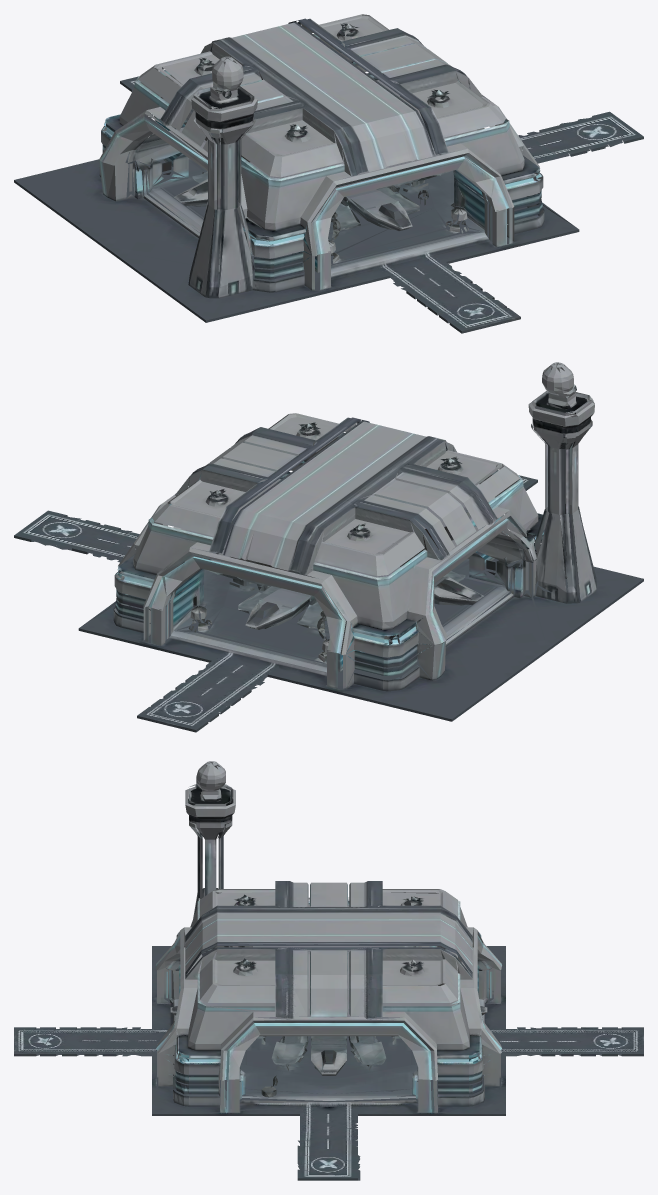
The model's file is hangar_LOD1.glb.
3 renders of one model, top to bottom at view 1: azimuth 30°, elevation 25°; view 2: azimuth 150°, elevation 25°; view 3: azimuth 270°, elevation 25°, orthographic. The views are drawn at different scales.
Parts seen in each view (by area): view 1: hangar_LOD1; view 2: hangar_LOD1; view 3: hangar_LOD1.
Part boxes in pixels (x1,y1,x2,y2): hangar_LOD1: (14, 14, 643, 333); hangar_LOD1: (14, 362, 643, 732); hangar_LOD1: (14, 761, 643, 1180).
Size of the model in its own units: 0.8728 by 0.3679 by 1.
Materials: 1 (1 with a texture image).
